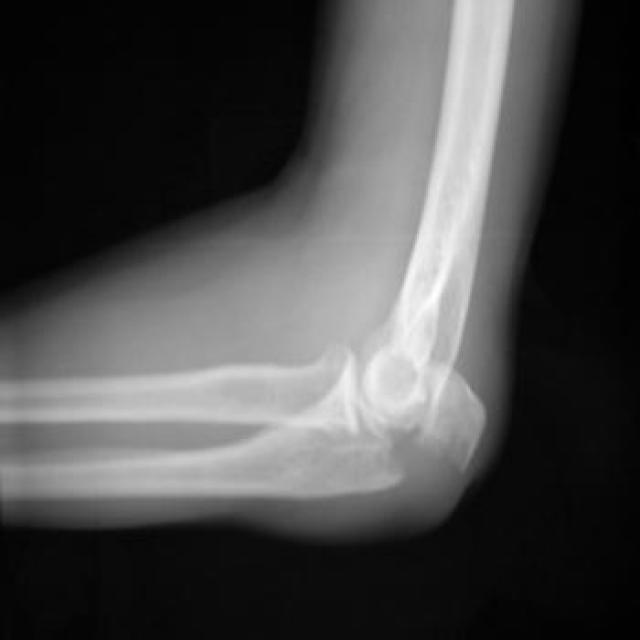Fracture: (378, 407, 470, 489)
